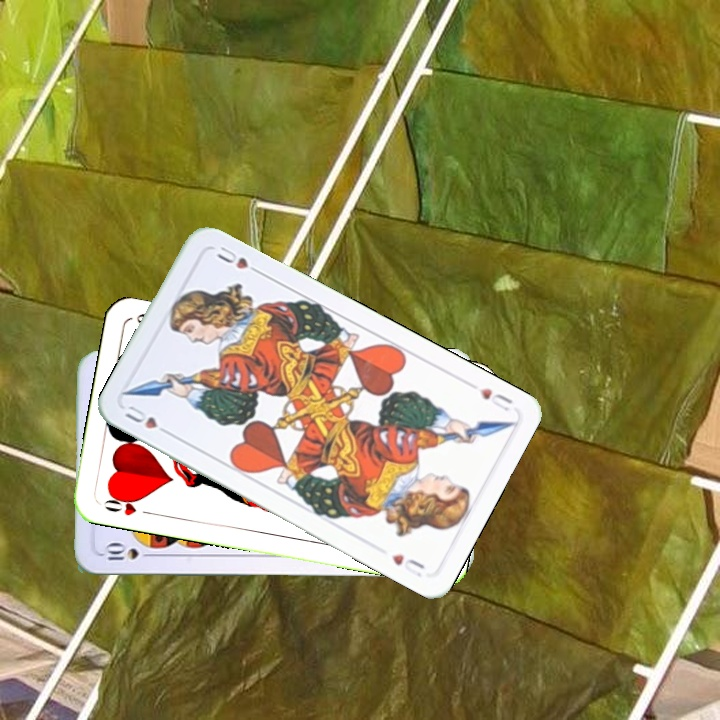HO: (100, 490, 155, 519)
HU: (120, 401, 175, 439), (475, 383, 515, 414)
S10: (101, 542, 158, 563)
